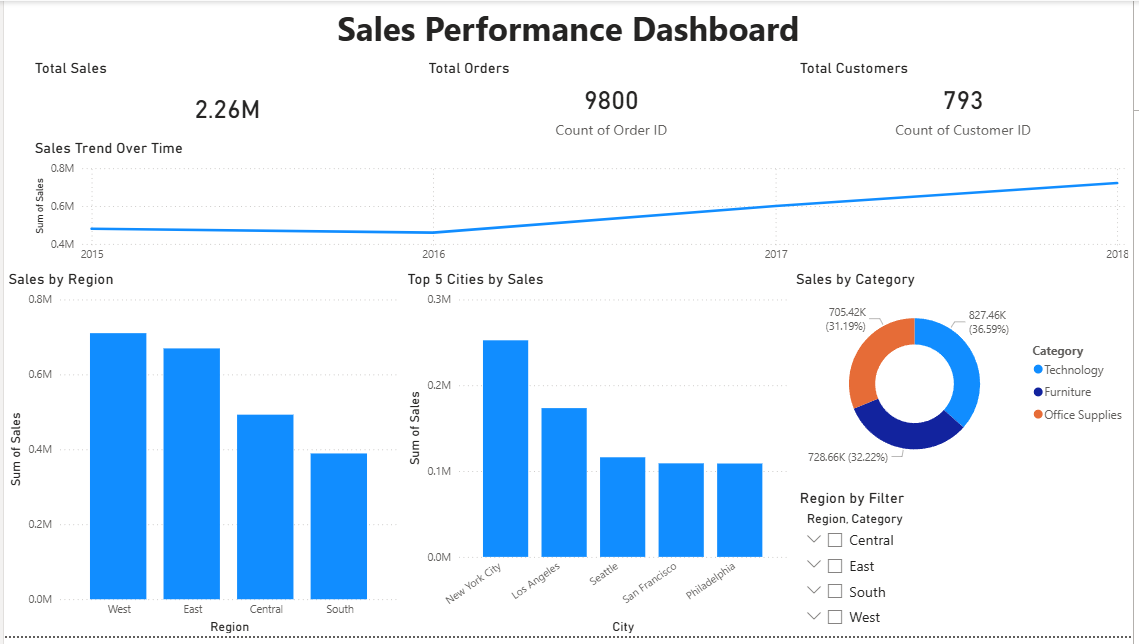

This screenshot's page, from the dashboard's own definition file:
{"tool":"powerbi","page":{"name":"Page 1","canvas":[1280,720],"ordinal":0},"visuals":[{"type":"clusteredColumnChart","fields":{"Y":["Sum(train.Sales)"]},"box":[11.9,78.8,589,303.4],"z":5000},{"type":"columnChart","fields":{"Category":["train.Region"],"Y":["Sum(train.Sales)"]},"box":[0,425.4,629.2,266.2],"z":5001},{"type":"donutChart","fields":{"Y":["Sum(train.Sales)"],"Category":["train.Category"]},"box":[705,49.1,575.6,310.9],"z":5002},{"type":"clusteredColumnChart","fields":{"Category":["train.City"],"Y":["Sum(train.Sales)"]},"box":[705,382.3,575.6,337.6],"z":5003}]}

Visuals, with their boxes in screenshot pixels (x1, y1, x2, y2), scaled from the page's 1280x720 canvas onto the 1139x644 screenshot:
clusteredColumnChart - Sum(train.Sales): x1=11 y1=70 x2=535 y2=342
columnChart - train.Region x Sum(train.Sales): x1=0 y1=380 x2=560 y2=619
donutChart - Sum(train.Sales) x train.Category: x1=627 y1=44 x2=1138 y2=322
clusteredColumnChart - train.City x Sum(train.Sales): x1=627 y1=342 x2=1138 y2=643
